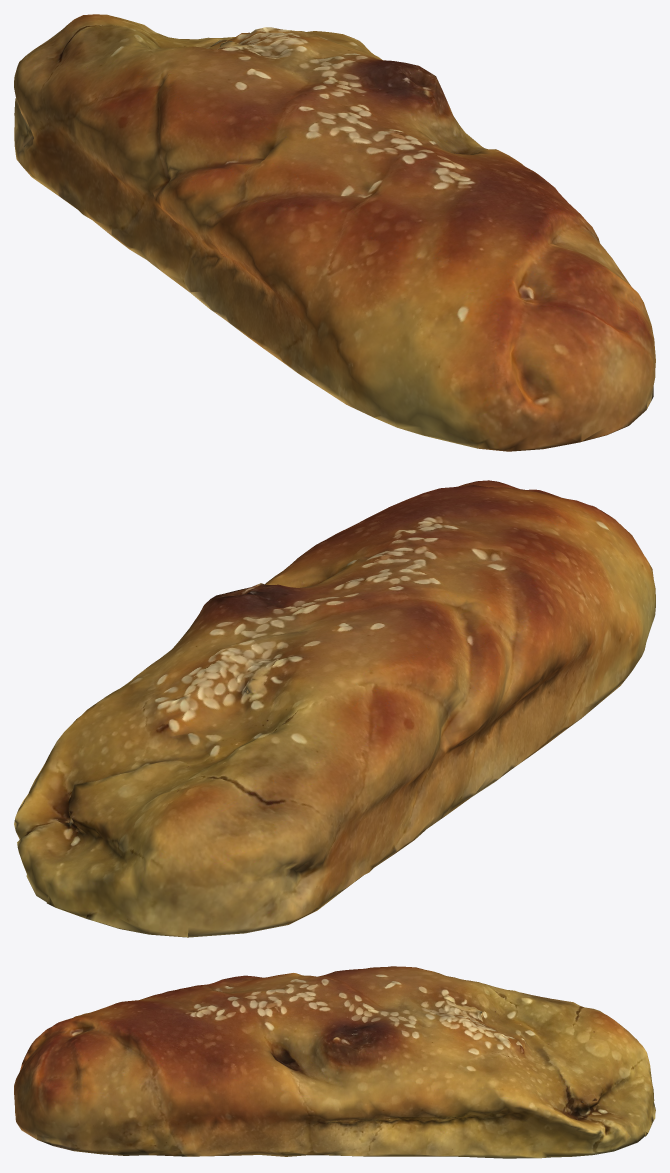
Rendered from Chicken parma puff.glb.
3 renders of one model, top to bottom at view 1: azimuth 30°, elevation 25°; view 2: azimuth 150°, elevation 25°; view 3: azimuth 270°, elevation 25°, orthographic. The views are drawn at different scales.
Visible parts, largest first — view 1: 3DModel_Retopo; view 2: 3DModel_Retopo; view 3: 3DModel_Retopo.
Part boxes in pixels (x1,y1,x2,y2): 3DModel_Retopo: (14, 14, 655, 451); 3DModel_Retopo: (14, 480, 655, 937); 3DModel_Retopo: (14, 966, 655, 1158).
Size of the model in its own units: 0.1155 by 0.0628 by 0.3096.
Materials: 1 (1 with a texture image).
